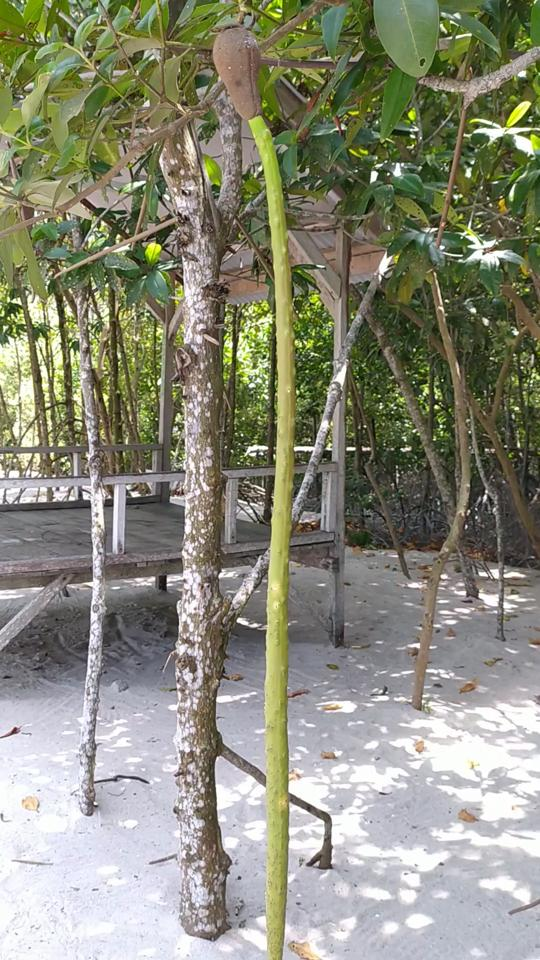mentah: (191, 12, 330, 958)
